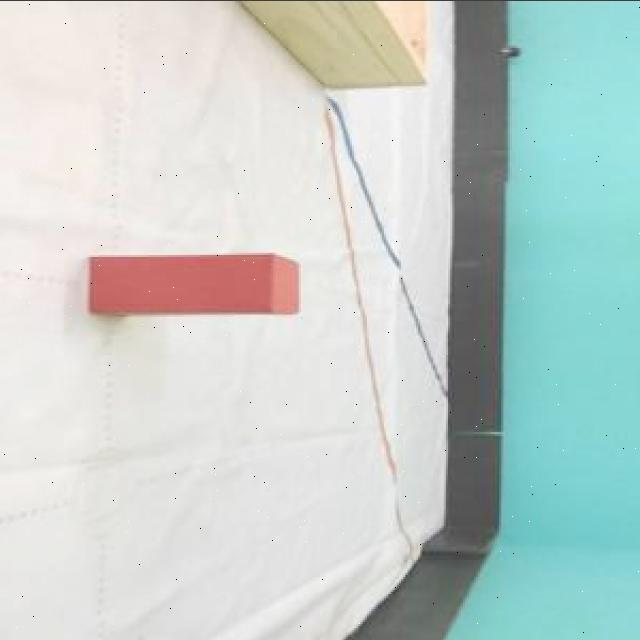redbox: (88, 250, 300, 316)
